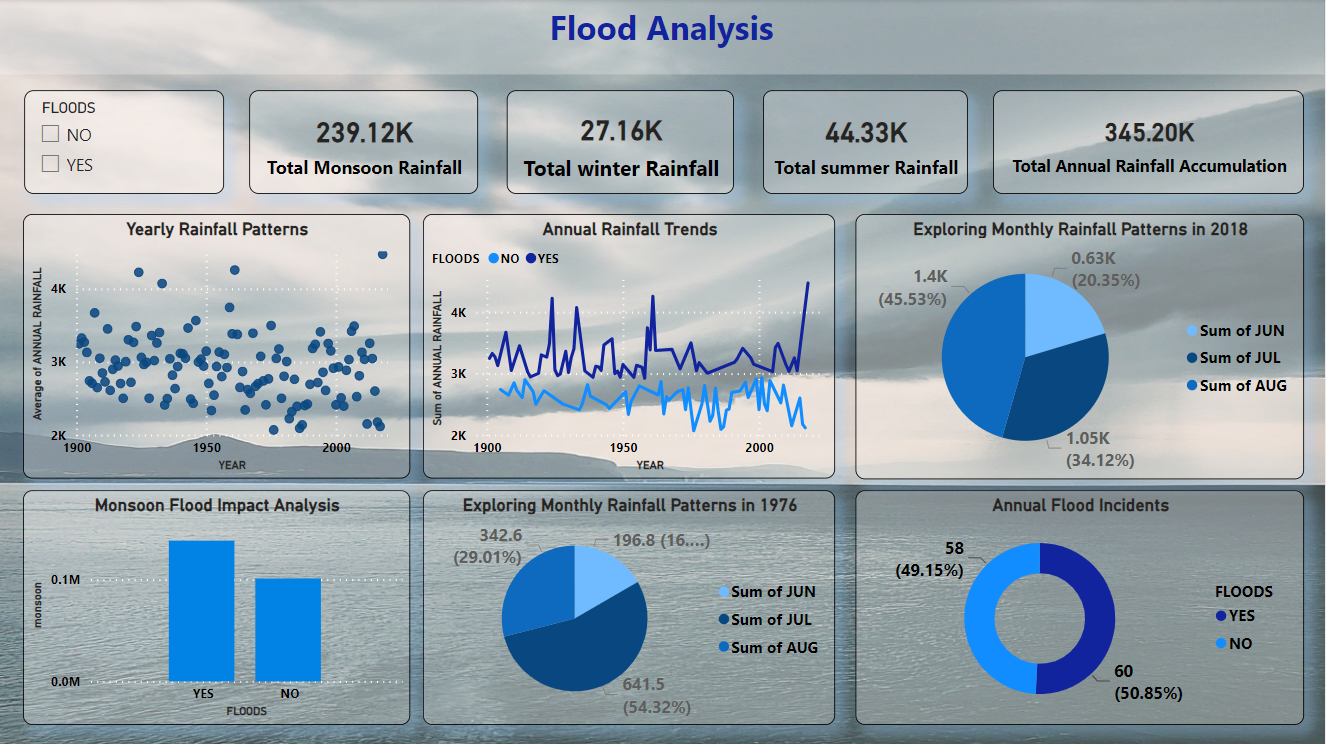

This screenshot's page, from the dashboard's own definition file:
{"tool":"powerbi","page":{"name":"Page 1","canvas":[1280,720],"ordinal":0},"visuals":[{"type":"donutChart","title":"Annual Flood Incidents","fields":{"Category":["flood_BI_dataset.FLOODS"],"Y":["CountNonNull(flood_BI_dataset.FLOODS)"]},"box":[827.3,474,433,226.7],"z":0},{"type":"textbox","box":[0,0,1280.3,72.7],"z":1000},{"type":"lineChart","title":"Annual Rainfall Trends","fields":{"Category":["flood_BI_dataset.YEAR"],"Y":["Sum(flood_BI_dataset. ANNUAL RAINFALL)"],"Series":["flood_BI_dataset.FLOODS"]},"box":[410.3,207.2,397.9,255.2],"z":2000},{"type":"slicer","fields":{"Values":["flood_BI_dataset.FLOODS"]},"box":[25.3,88,193,100.1],"z":3000},{"type":"card","fields":{"Values":["Sum(flood_BI_dataset. ANNUAL RAINFALL)"]},"box":[960,88,300.3,100.1],"z":4000},{"type":"pieChart","title":"Exploring Monthly Rainfall Patterns in 2018","fields":{"Y":["Sum(flood_BI_dataset.JUN)","Sum(flood_BI_dataset.JUL)","Sum(flood_BI_dataset.AUG)"]},"box":[827.3,207.4,433,255.7],"z":5000},{"type":"card","fields":{"Values":["flood_BI_dataset.monsoon"]},"box":[242.4,88,220.7,100.1],"z":6000},{"type":"card","fields":{"Values":["flood_BI_dataset.summer"]},"box":[738.1,88,197.8,100.1],"z":7000},{"type":"card","fields":{"Values":["flood_BI_dataset.winter"]},"box":[490.9,88,219.5,100.1],"z":8000},{"type":"pieChart","title":"Exploring Monthly Rainfall Patterns in 1976","fields":{"Y":["Sum(flood_BI_dataset.JUN)","Sum(flood_BI_dataset.JUL)","Sum(flood_BI_dataset.AUG)"]},"box":[410.1,474,398,226.7],"z":9000},{"type":"columnChart","title":"Monsoon Flood Impact Analysis","fields":{"Y":["flood_BI_dataset.monsoon"],"Category":["flood_BI_dataset.FLOODS"]},"box":[24.7,473.4,373.2,226.4],"z":10000},{"type":"scatterChart","title":"Yearly Rainfall Patterns","fields":{"X":["flood_BI_dataset.YEAR"],"Y":["Avg(flood_BI_dataset. ANNUAL RAINFALL)"]},"box":[24.7,207.2,373.2,255.2],"z":11000}]}

Visuals, with their boxes in screenshot pixels (x1, y1, x2, y2), scaled from the page's 1280x720 canvas onto the 1326x744 screenshot:
"Annual Flood Incidents" donutChart: left=857, top=490, right=1306, bottom=724
textbox: left=0, top=0, right=1325, bottom=75
"Annual Rainfall Trends" lineChart: left=425, top=214, right=837, bottom=478
slicer - flood_BI_dataset.FLOODS: left=26, top=91, right=226, bottom=194
card - Sum(flood_BI_dataset. ANNUAL RAINFALL): left=994, top=91, right=1306, bottom=194
"Exploring Monthly Rainfall Patterns in 2018" pieChart: left=857, top=214, right=1306, bottom=479
card - flood_BI_dataset.monsoon: left=251, top=91, right=480, bottom=194
card - flood_BI_dataset.summer: left=765, top=91, right=970, bottom=194
card - flood_BI_dataset.winter: left=509, top=91, right=736, bottom=194
"Exploring Monthly Rainfall Patterns in 1976" pieChart: left=425, top=490, right=837, bottom=724
"Monsoon Flood Impact Analysis" columnChart: left=26, top=489, right=412, bottom=723
"Yearly Rainfall Patterns" scatterChart: left=26, top=214, right=412, bottom=478
